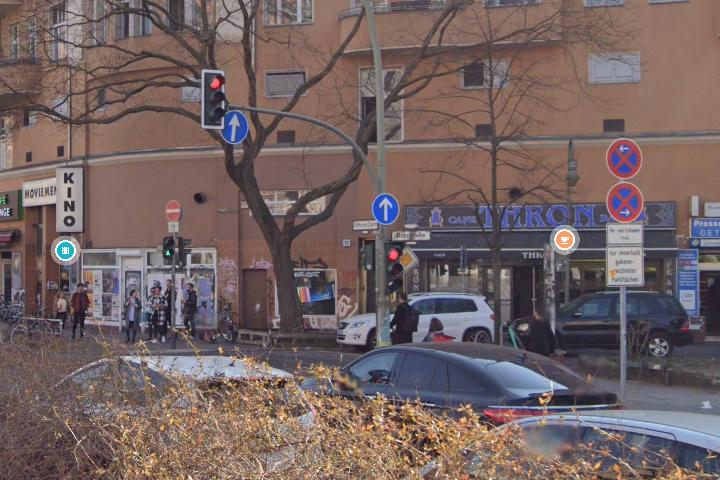google_maps: (54, 240, 78, 261), (554, 228, 576, 250)
traffic_sign: (605, 181, 645, 222), (606, 138, 643, 179), (220, 109, 249, 145), (372, 193, 400, 225), (392, 245, 419, 273), (166, 200, 181, 220)
vehicle: (290, 338, 635, 462), (19, 346, 331, 480), (507, 286, 693, 358), (333, 286, 499, 355)
